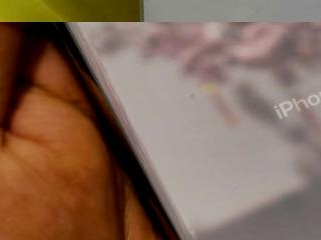scratch: (163, 214, 321, 240), (178, 79, 217, 116)
